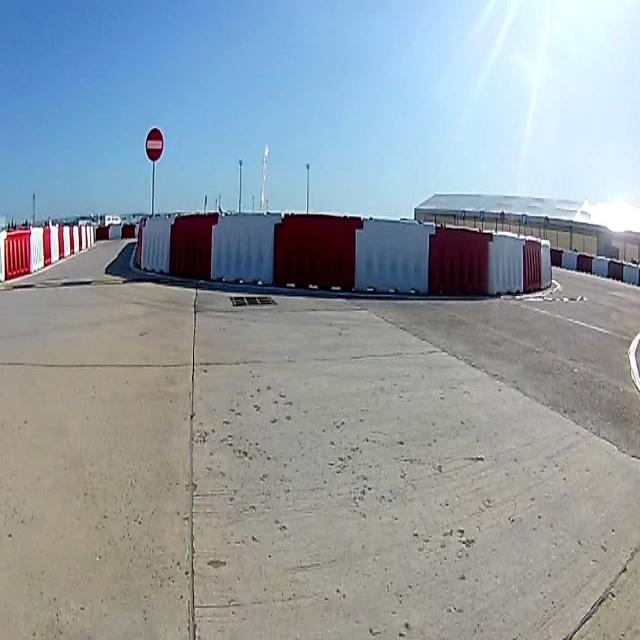girisyok: (144, 128, 164, 161)
